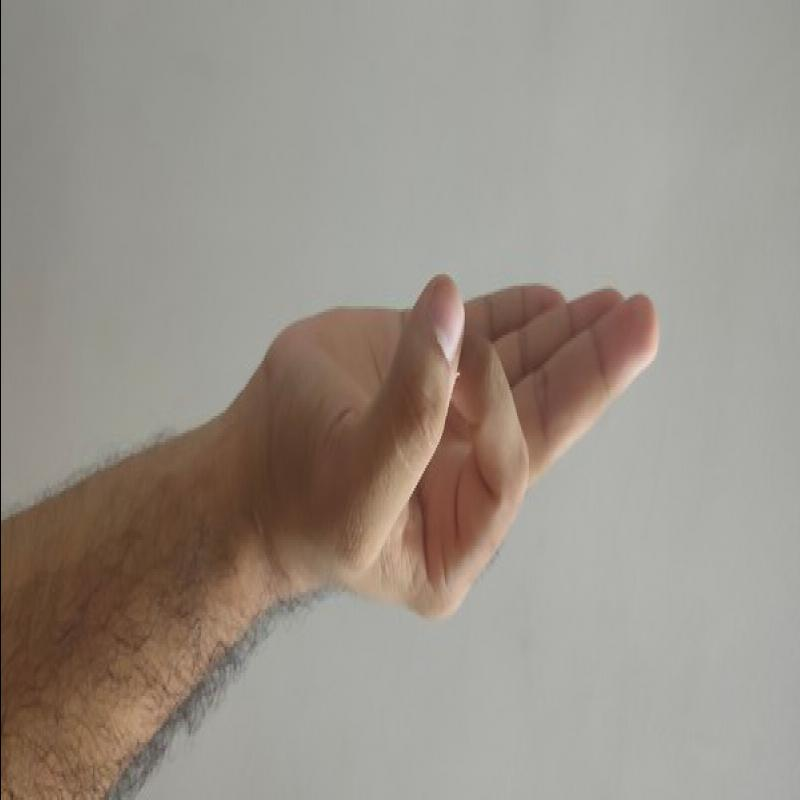Mudraakhyam: (212, 214, 686, 638)
